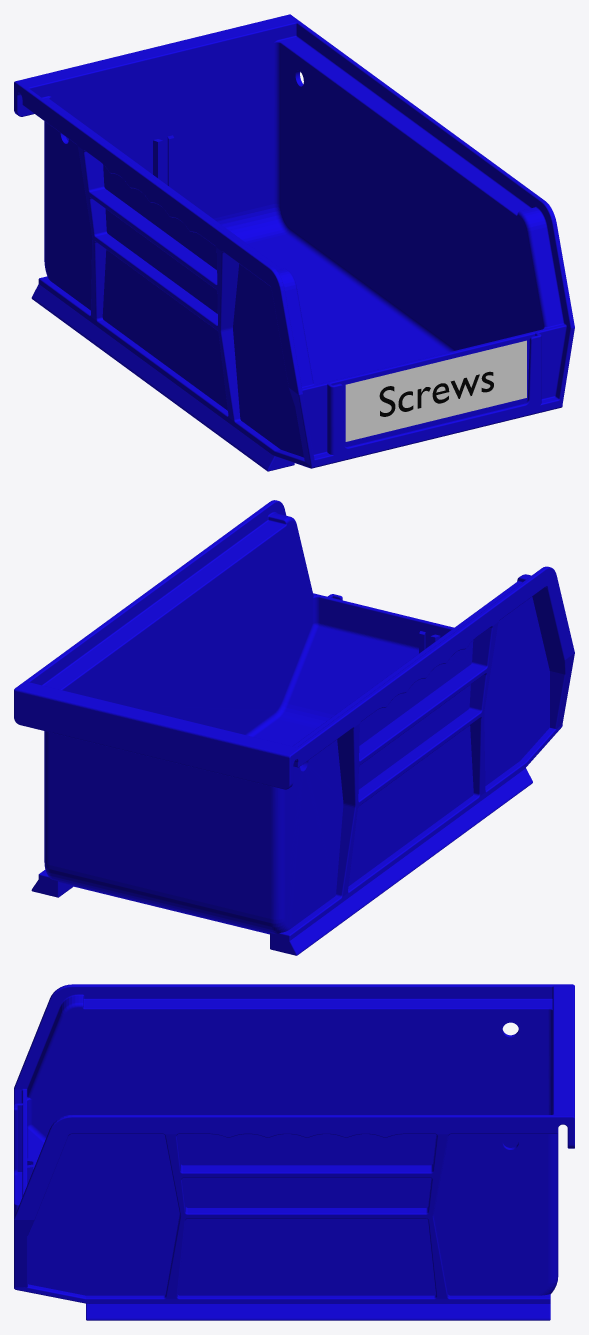
File: Bin.fbx
3 views of the same model, one above another, from view 1: azimuth 30°, elevation 25°; view 2: azimuth 150°, elevation 25°; view 3: azimuth 270°, elevation 25° (orthographic).
Visible parts, largest first — view 1: Pastic Bin, Plane, Text; view 2: Pastic Bin; view 3: Pastic Bin.
Part boxes in pixels (x1,y1,x2,y2): Pastic Bin: (14,14,574,471); Plane: (345,340,526,441); Text: (379,371,493,416); Pastic Bin: (14,500,574,955); Pastic Bin: (14,984,574,1320).
Bounding box in the file's own units: 10.48 × 7.62 × 18.73.
